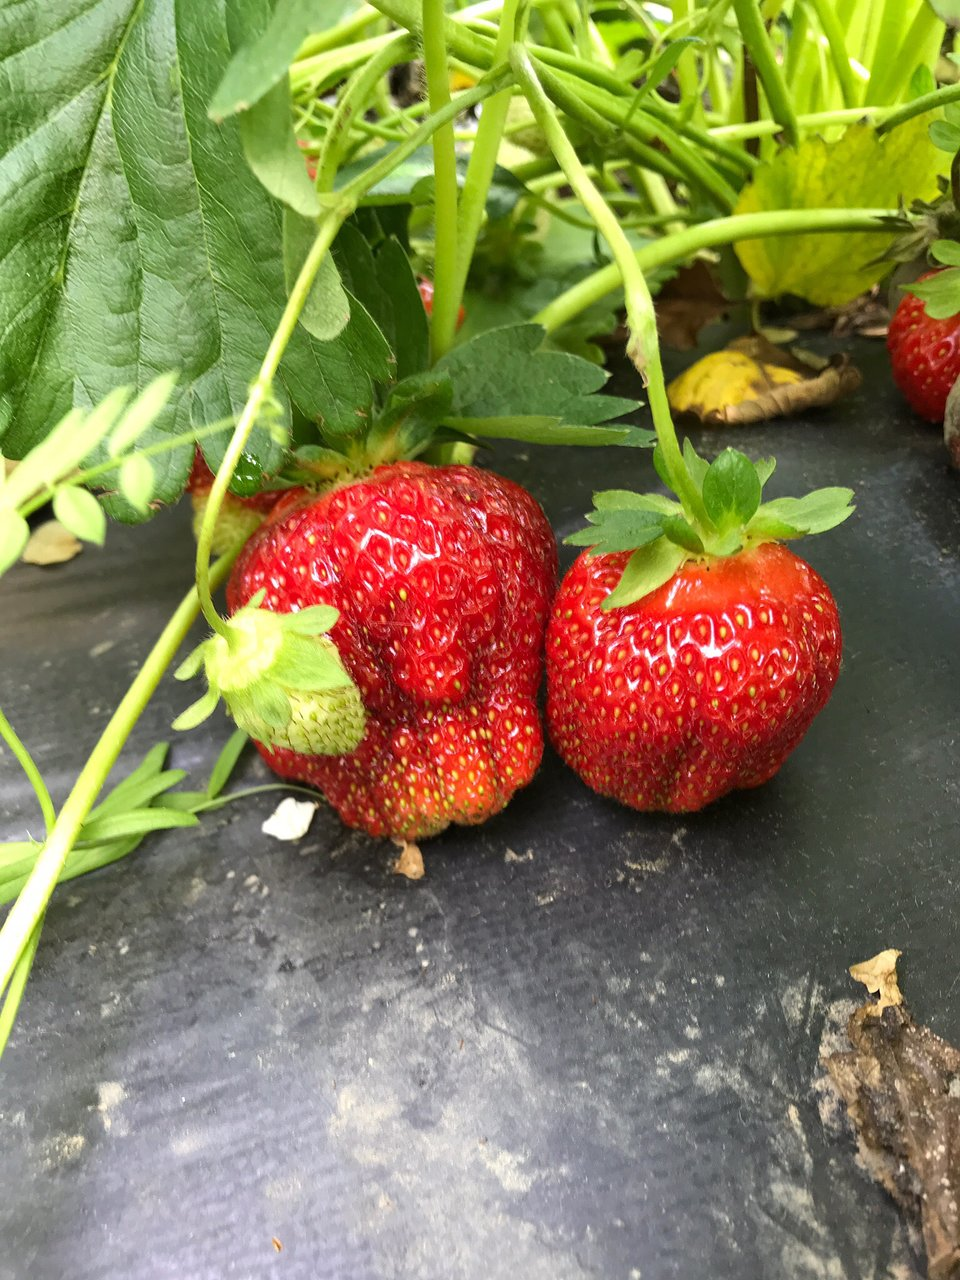ripe: (222, 420, 571, 846), (515, 526, 846, 838), (880, 225, 956, 444)
unripe: (184, 593, 368, 760)
